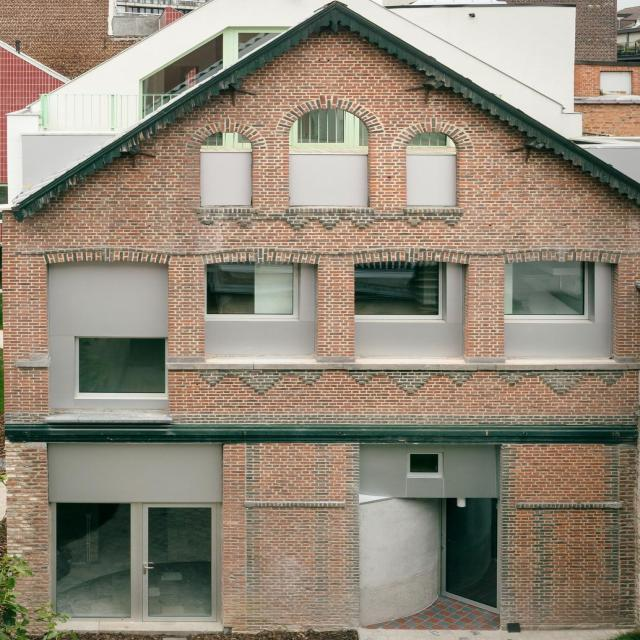door: (130, 501, 220, 622), (440, 498, 496, 616)
window: (47, 501, 223, 621), (290, 107, 369, 209), (501, 261, 593, 320), (356, 260, 444, 320), (80, 337, 166, 395), (205, 262, 296, 315), (202, 131, 254, 207), (405, 132, 454, 205), (409, 453, 440, 475)
